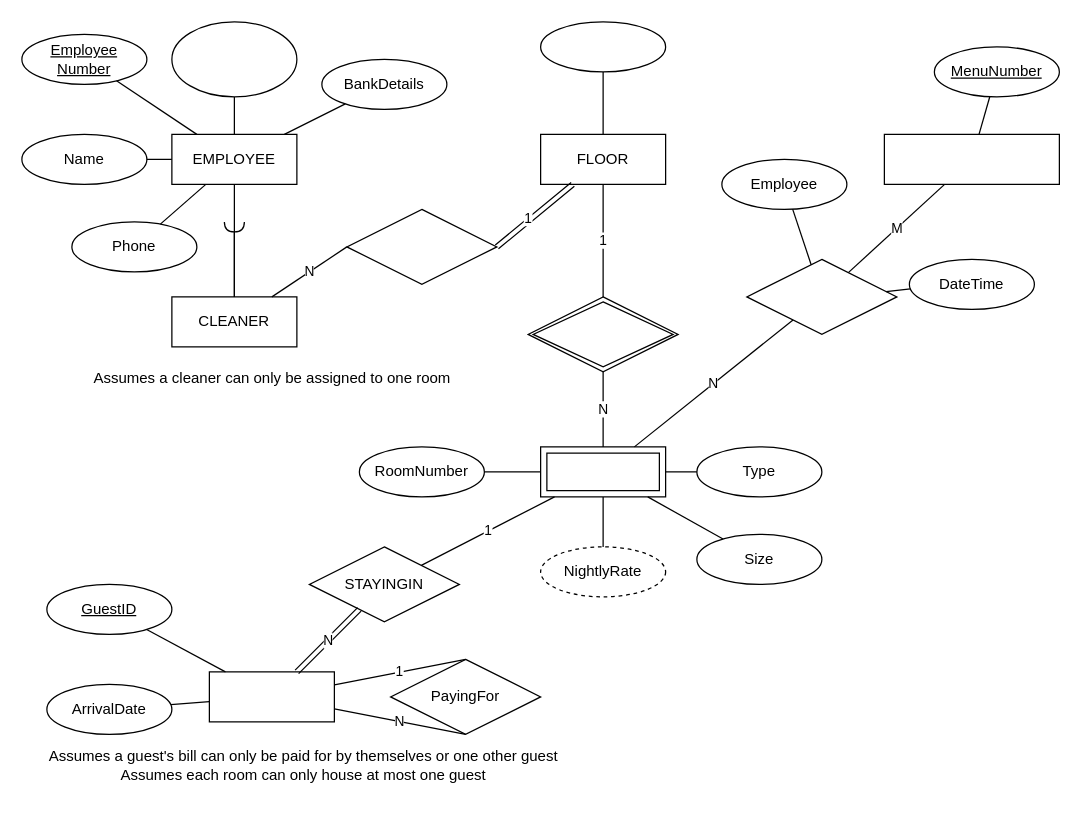
Image size: 1081x813. Some labels were removed from this diagram. The shapes that lost their labels are listed below. From the top down, each one's centre as x and y in pixels, then its label:
At [234,59]: "Employee Passkey Number".
At [602,46]: "FloorNumber".
At [971,158]: "ROOMSERVICEITEM".
At [421,246]: "ASSIGNED".
At [821,296]: "ORDERS".
At [602,334]: "On".
At [602,471]: "ROOM".
At [271,696]: "GUEST".
